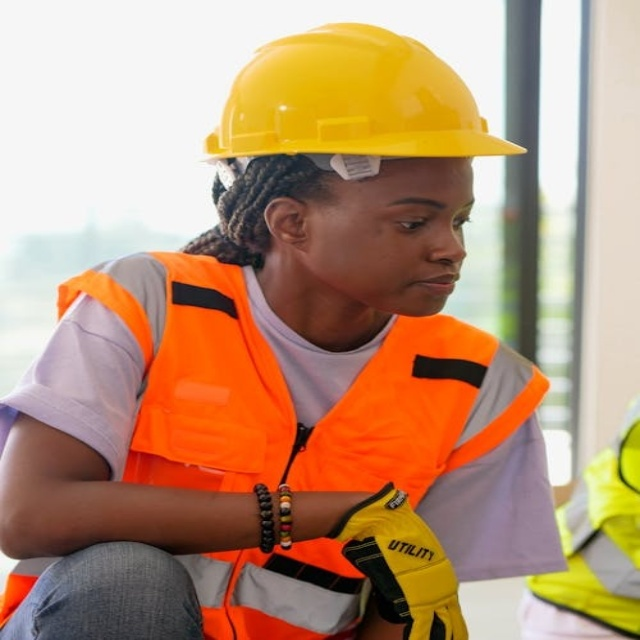Guantes: (328, 484, 468, 639)
Sin_gafas: (351, 192, 477, 239)
Sin_mascara: (384, 267, 465, 314)
